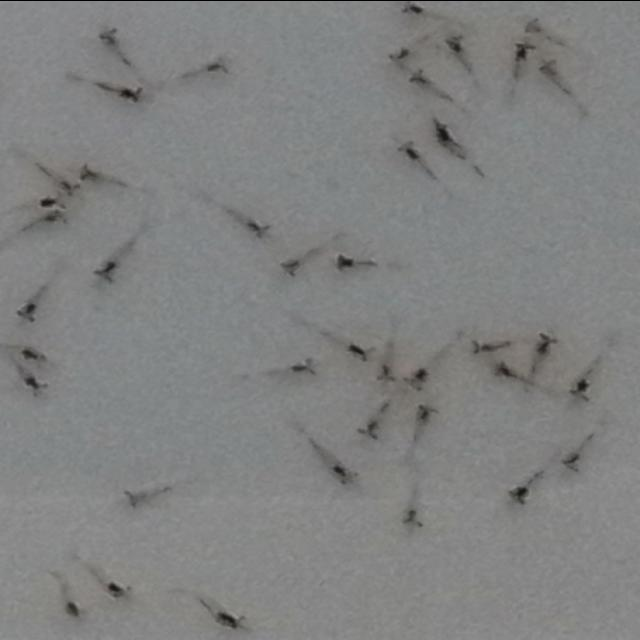shrimp-seed: (97, 76, 143, 108), (121, 484, 162, 510), (76, 162, 116, 188), (432, 120, 462, 152), (92, 23, 126, 50), (241, 217, 275, 244), (470, 334, 510, 356), (406, 64, 437, 92), (328, 462, 360, 489), (213, 609, 248, 633), (511, 40, 540, 68), (536, 58, 565, 86), (21, 373, 51, 400), (90, 257, 120, 284), (402, 366, 433, 392), (568, 377, 598, 403), (100, 578, 132, 602), (398, 506, 430, 530), (394, 138, 426, 162), (440, 32, 470, 57), (200, 54, 228, 80), (490, 358, 518, 384), (12, 298, 41, 322), (411, 402, 439, 426), (504, 481, 532, 505), (556, 450, 584, 474), (344, 338, 371, 362), (277, 254, 303, 278), (532, 329, 556, 355), (20, 342, 48, 364), (290, 356, 318, 378), (356, 418, 384, 440), (385, 42, 411, 64), (38, 191, 66, 211), (58, 600, 85, 620), (331, 252, 357, 272), (42, 208, 70, 226), (402, 0, 427, 20), (523, 14, 544, 36), (56, 177, 82, 194), (376, 362, 396, 384)
